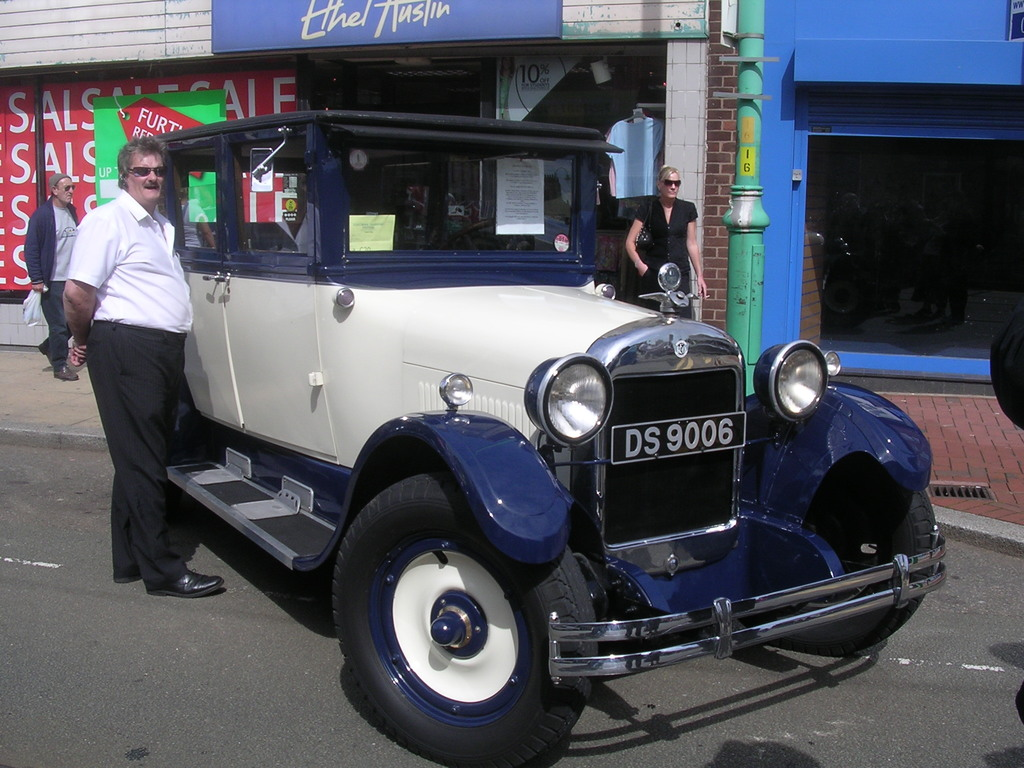Car: (159, 108, 947, 767)
